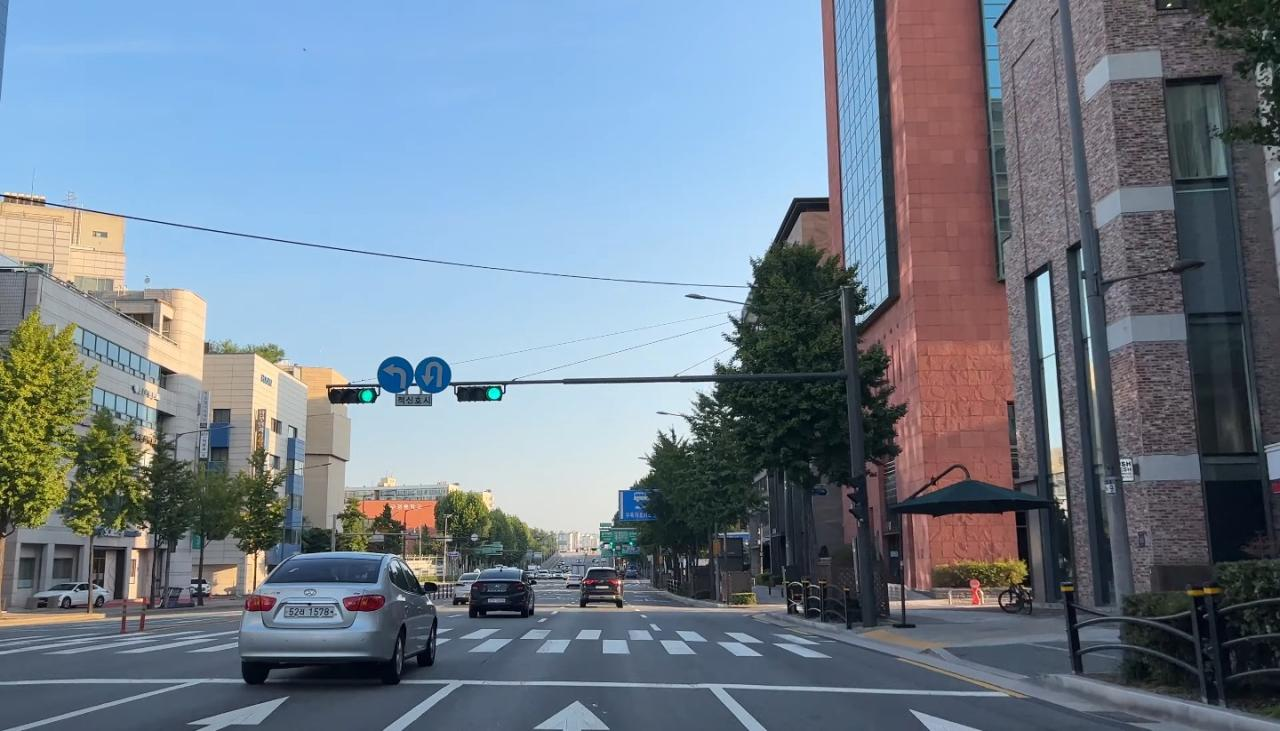Green Light: (485, 386, 501, 401), (359, 389, 374, 403)
